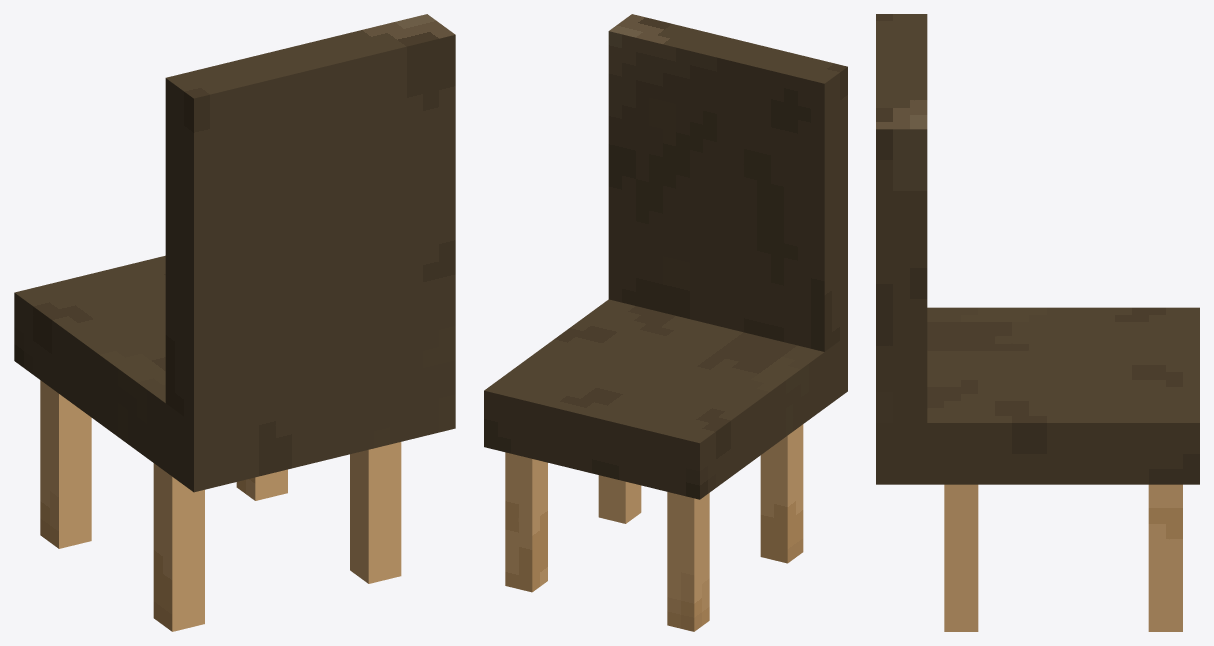
The model's file is chair.fbx.
The picture shows the model from 3 angles, left to right: view 1: azimuth 30°, elevation 25°; view 2: azimuth 150°, elevation 25°; view 3: azimuth 270°, elevation 25°; orthographic projection. The views are drawn at different scales.
Parts seen in each view (by area): view 1: base, leg_3, leg_2, leg, leg_1; view 2: base, leg_2, leg_1, leg_3, leg; view 3: base, leg, leg_1.
Boxes of the visible parts, bbox=[...] form: base: bbox=[14, 14, 455, 492]; leg_3: bbox=[153, 463, 204, 631]; leg_2: bbox=[40, 380, 91, 548]; leg: bbox=[350, 442, 401, 583]; leg_1: bbox=[236, 469, 287, 500]; base: bbox=[484, 14, 847, 499]; leg_2: bbox=[667, 492, 709, 631]; leg_1: bbox=[505, 452, 547, 592]; leg_3: bbox=[760, 424, 803, 563]; leg: bbox=[598, 475, 641, 523]; base: bbox=[876, 14, 1199, 484]; leg: bbox=[944, 484, 978, 631]; leg_1: bbox=[1148, 484, 1182, 631].
Size of the model in its own units: 100 by 206 by 119.
1 material, 1 textured.
